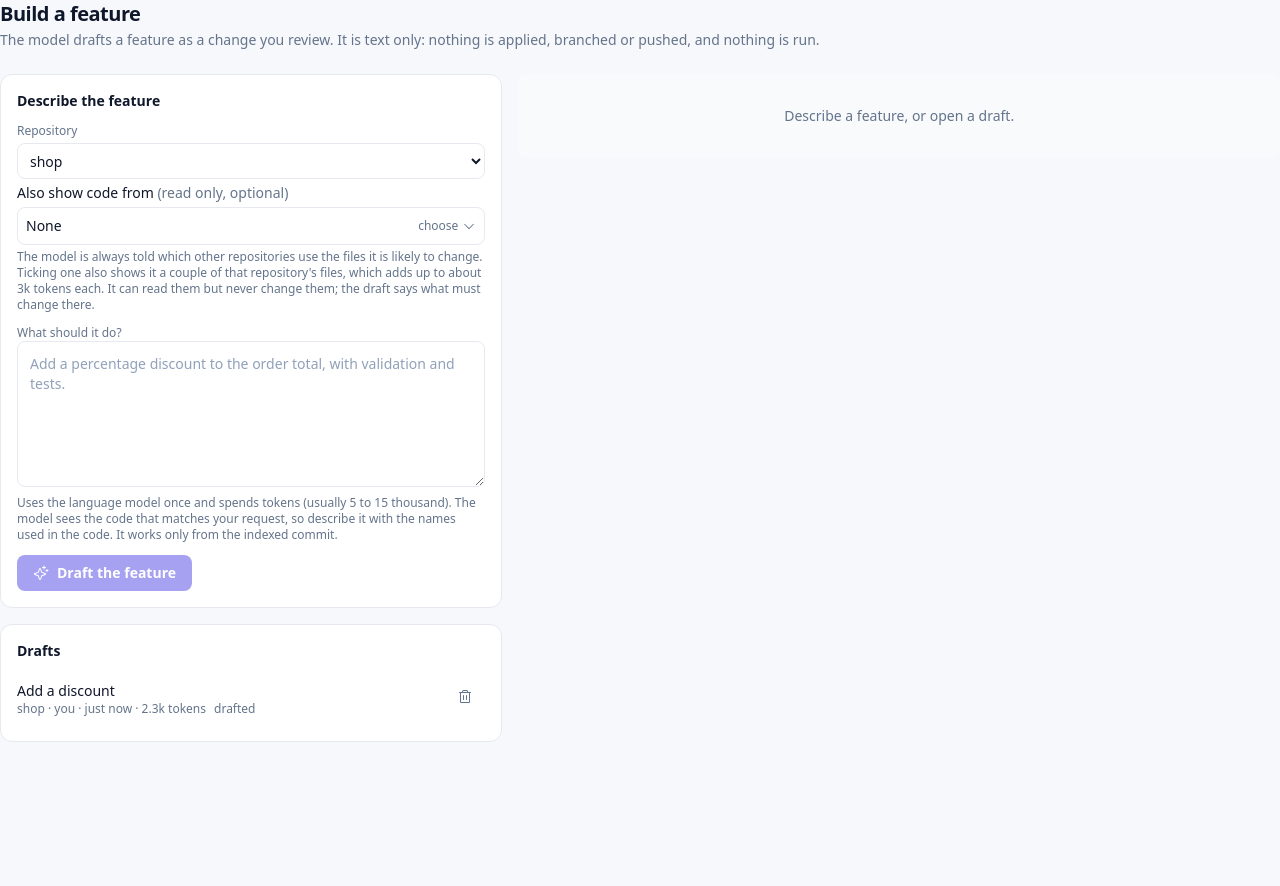
Scenario: Build a feature › offers the other indexed repositories to show read only, never the chosen one, and sends the ticked ones
Expected: the element named "Other repositories" shows "never change them", [17,248,483,313]
Click the heading named "Choose other repositories" at [44, 226], box [26,216,476,235]
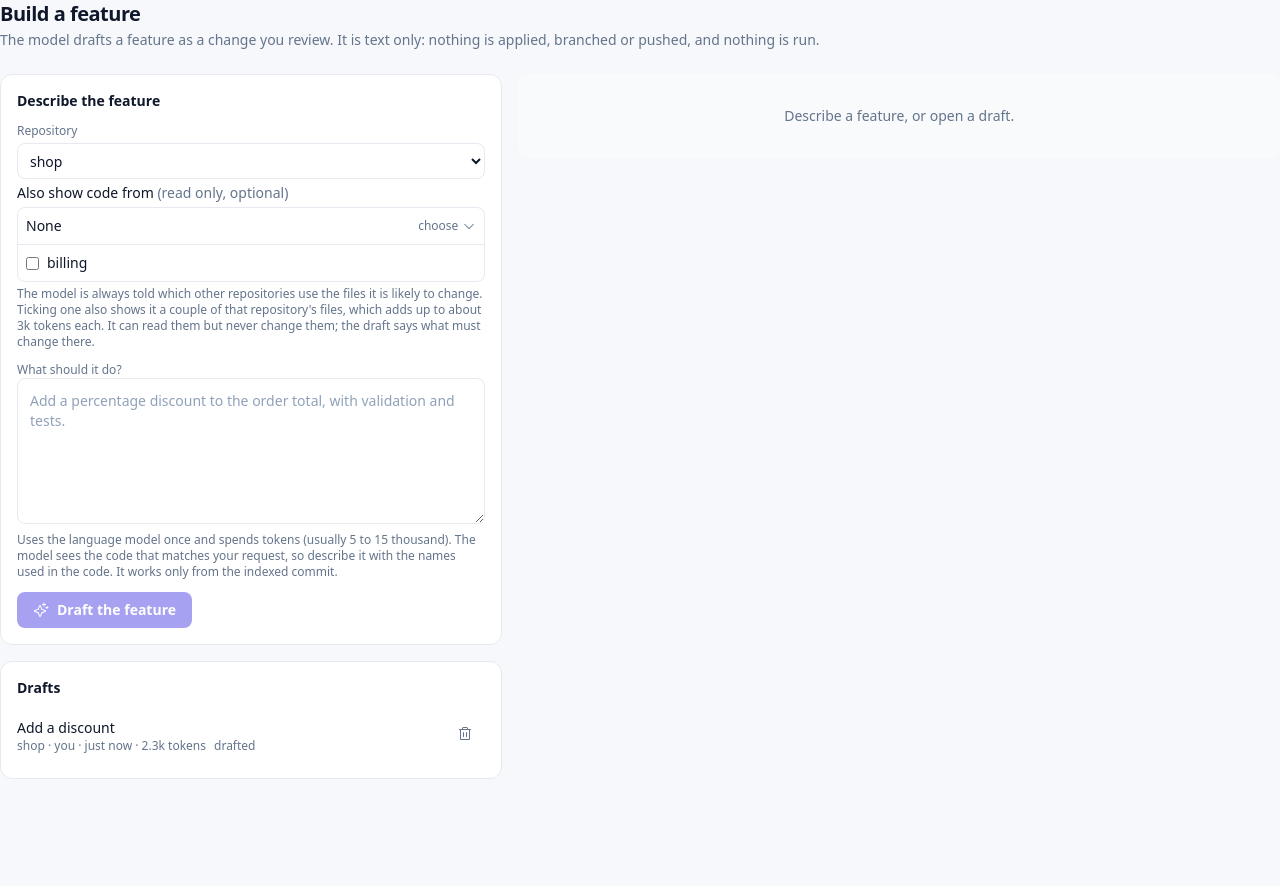
Click the checkbox labelled "billing" at [32, 263], box [26,256,39,270]
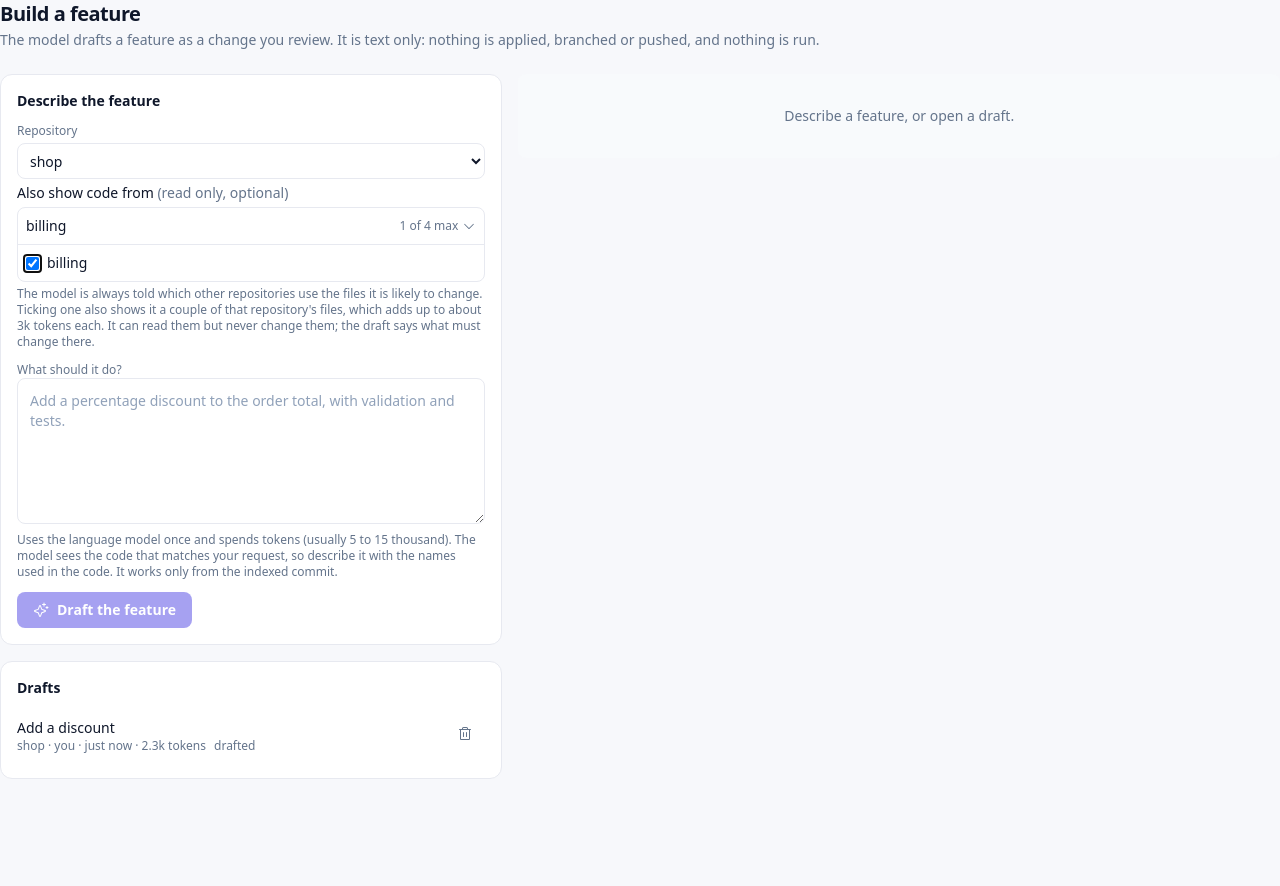
Expected: the heading named "Choose other repositories" shows "billing", [26,216,476,235]
Expected: the heading named "Choose other repositories" shows "1 of 4 max", [26,216,476,235]
Type "Add a discount to the order total" into the text box named "What should it do?" at [251, 451], box [17,378,485,524]
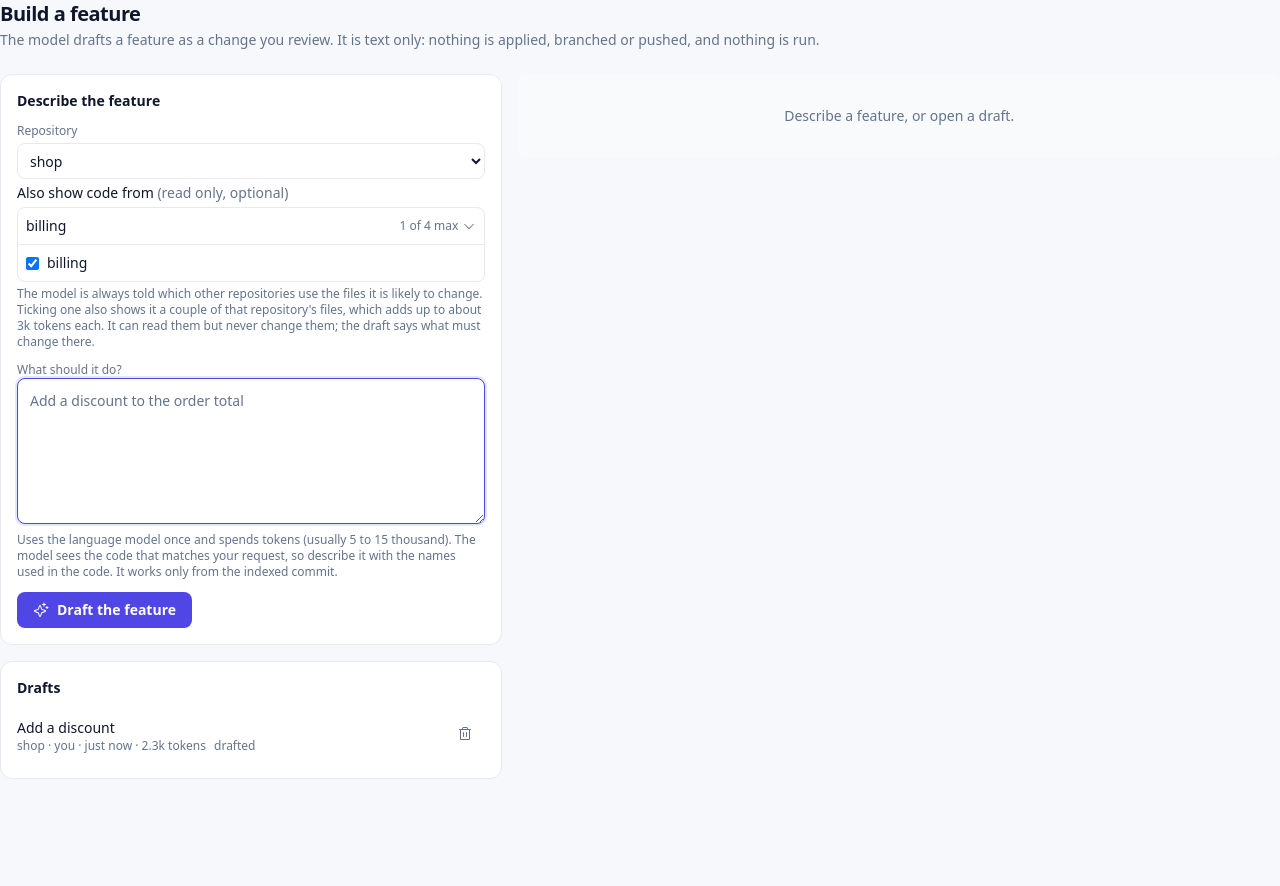
Click the button "Draft the feature" at [104, 610], box [17,592,192,628]
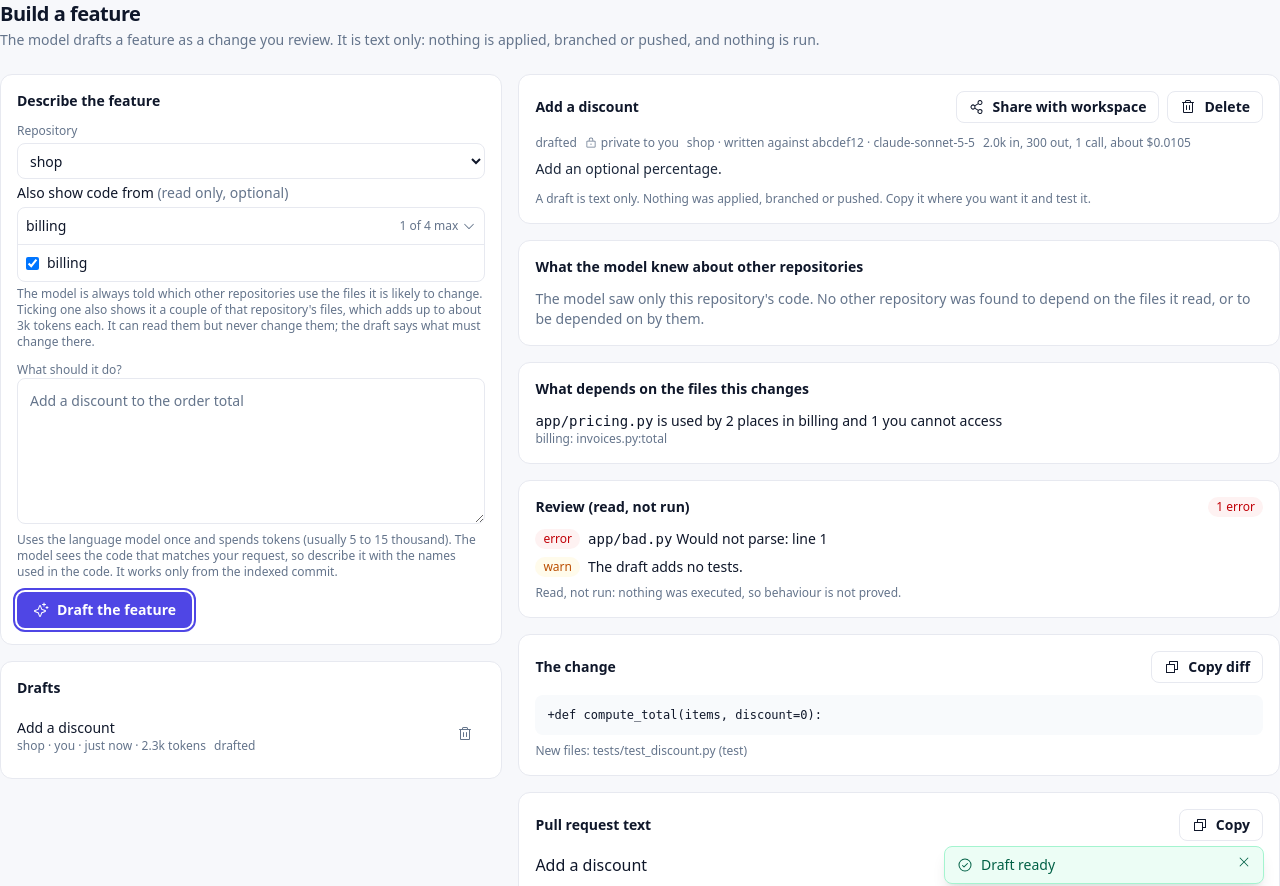
Select "billing" in the dropdown named "Repository" at [251, 161], box [17,143,485,179]
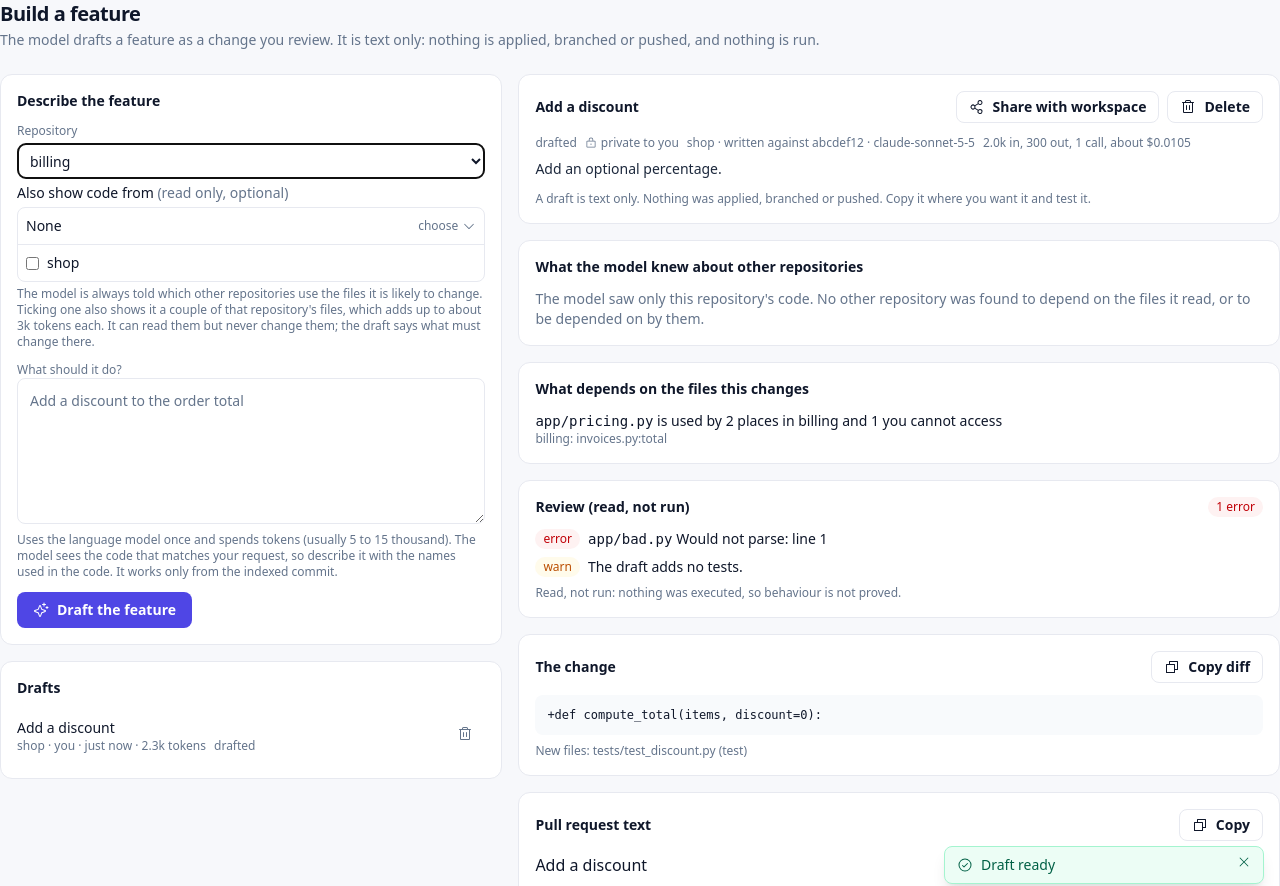
Expected: the checkbox labelled "shop" is not checked, [26,256,39,270]
